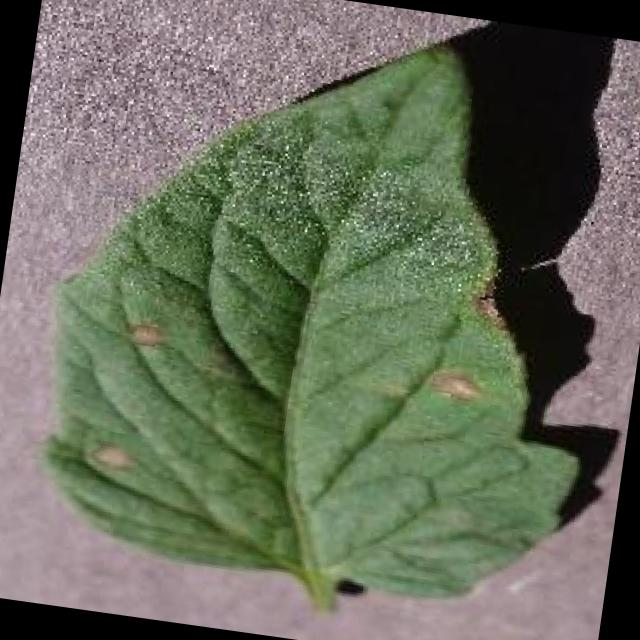Tomato_Early_Blight: (18, 0, 640, 597)
